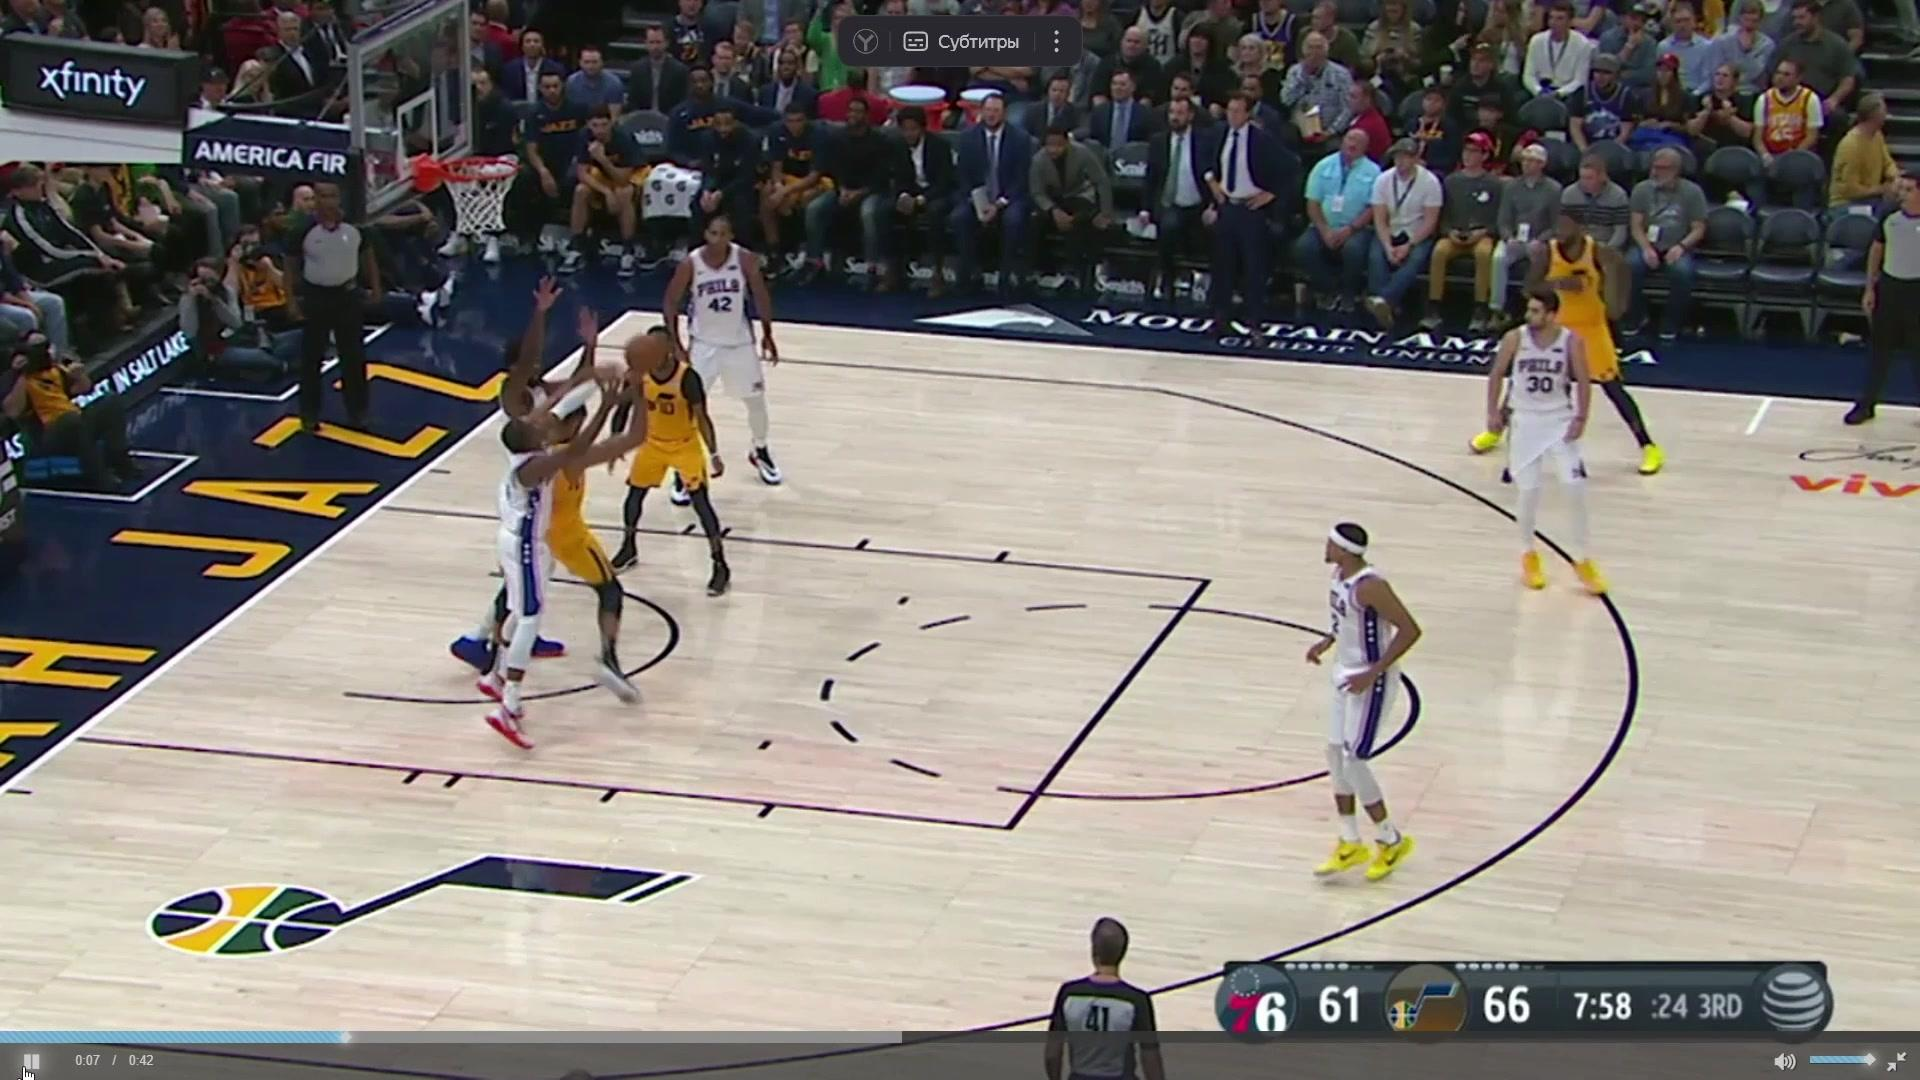no_foul: (464, 364, 667, 746)
